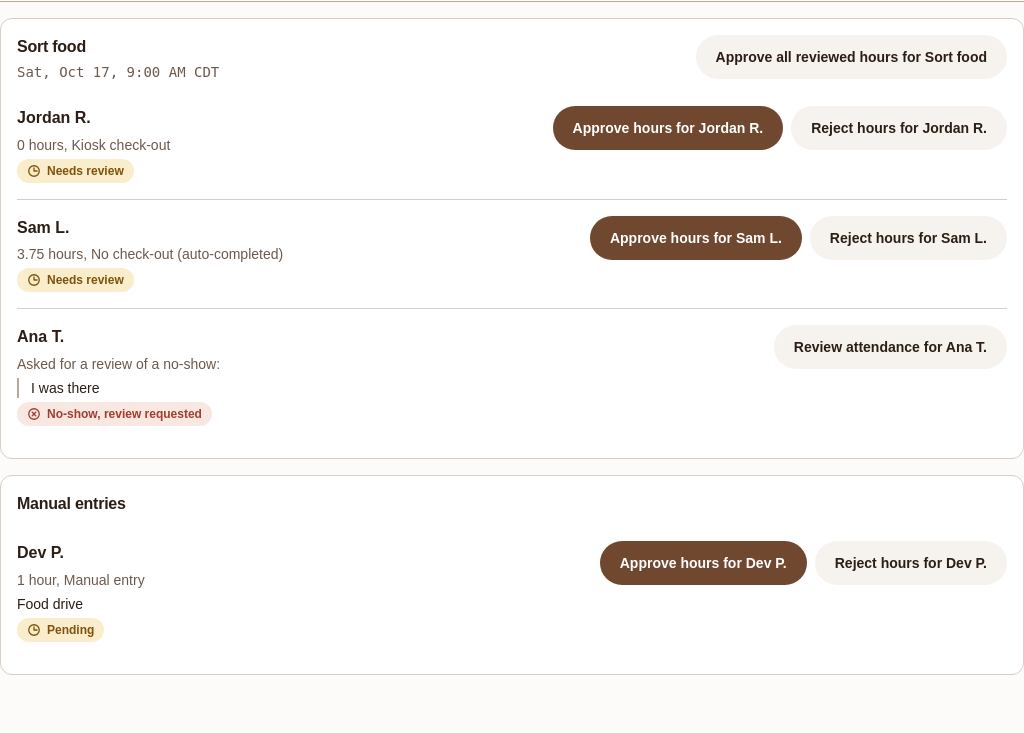
Test: NeedsAttentionList › requires a reason before rejecting
Click the button "Reject hours for Dev P." at [911, 563], box [815,541,1007,585]
(page scrolled)
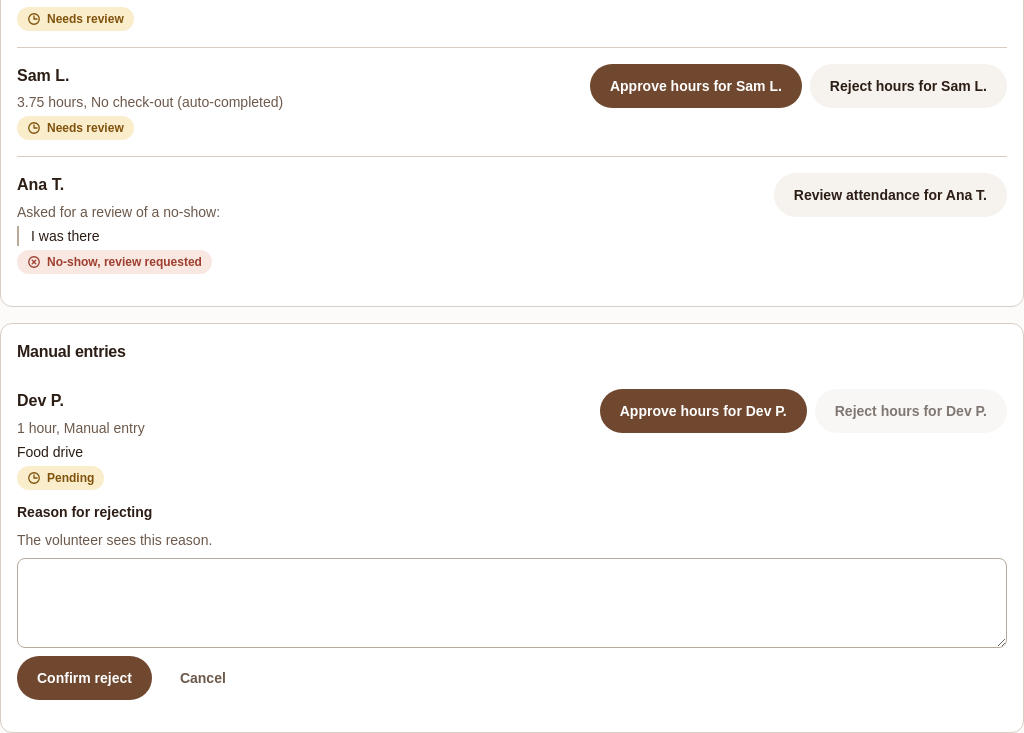
Click the button "Confirm reject" at [84, 678], box [17,656,152,700]
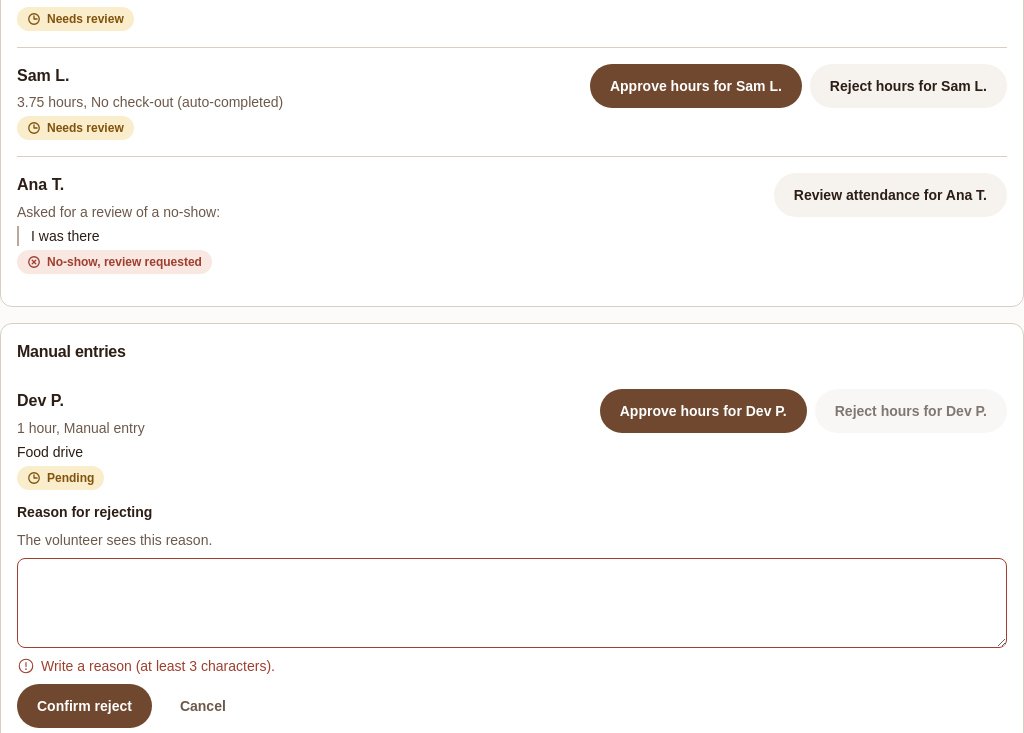
Expected: the text "Write a reason (at least 3 characters)." is shown, [17,657,275,675]
Type "No record of this event" into the text box labelled "Reason for rejecting" at [512, 603], box [17,558,1007,648]
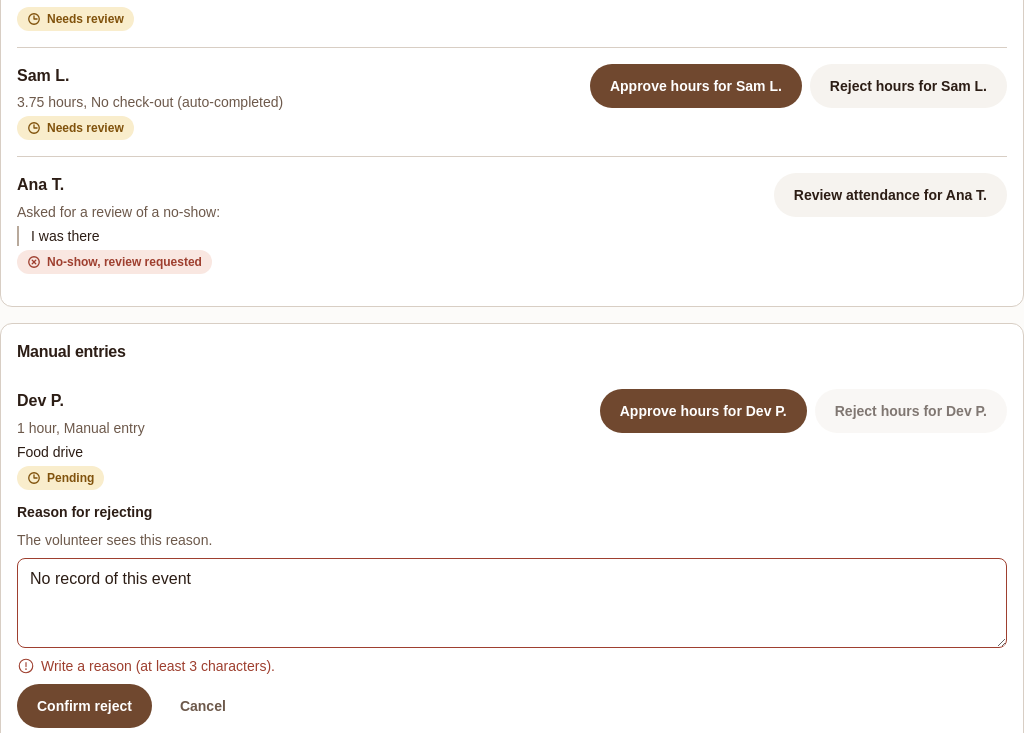
Click the button "Confirm reject" at [84, 706], box [17,684,152,728]
(page scrolled)
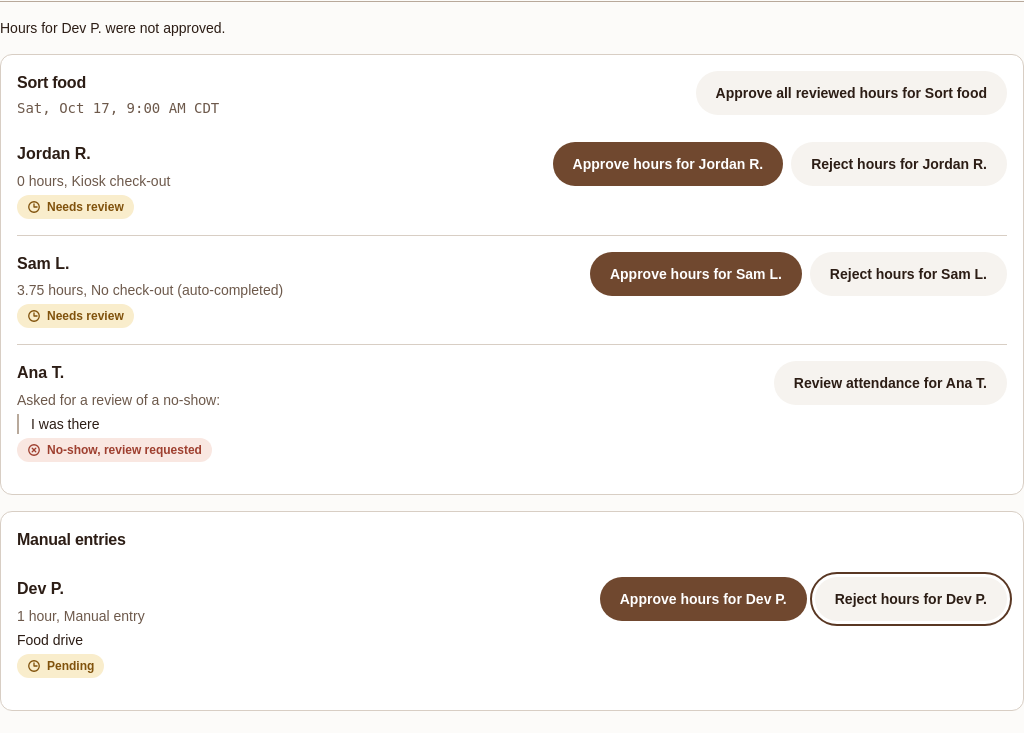
Expected: the message reads "Hours for Dev P. were not approved.", [0,20,225,36]
